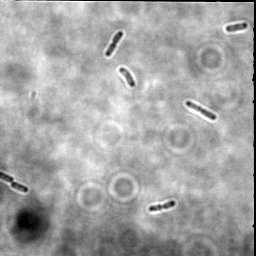Dividing: (184, 99, 217, 122), (1, 172, 29, 194), (104, 30, 124, 59), (147, 199, 176, 213)
Rod: (117, 66, 136, 88), (223, 21, 248, 33)
